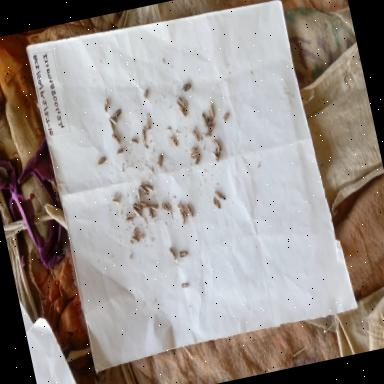pbw: (167, 130, 178, 150), (107, 114, 117, 136), (176, 94, 188, 110), (166, 246, 178, 262), (154, 152, 166, 168), (129, 230, 141, 246), (210, 195, 222, 211), (207, 102, 217, 121), (130, 205, 142, 220), (101, 96, 111, 114), (110, 132, 122, 147), (148, 199, 160, 214), (191, 127, 201, 145), (174, 100, 186, 115), (138, 182, 149, 198), (184, 202, 194, 219), (212, 135, 222, 152), (199, 110, 209, 127), (176, 246, 190, 258), (140, 86, 152, 100), (221, 109, 233, 123), (213, 188, 225, 202), (214, 150, 225, 165), (111, 107, 123, 120), (108, 195, 120, 208), (176, 106, 187, 120), (146, 201, 154, 220), (144, 180, 154, 195), (180, 82, 192, 94), (139, 128, 148, 144), (114, 145, 126, 157), (108, 115, 119, 128), (95, 155, 108, 166), (176, 198, 187, 211), (204, 116, 215, 128), (131, 201, 143, 212), (188, 142, 199, 154), (206, 122, 217, 134), (130, 225, 140, 238), (138, 198, 148, 211), (180, 280, 190, 292), (130, 134, 140, 146), (142, 121, 152, 133), (160, 201, 170, 213), (179, 209, 186, 225), (192, 155, 202, 166), (136, 186, 142, 204), (190, 150, 200, 160), (124, 214, 134, 224), (180, 207, 188, 219), (210, 149, 217, 159), (204, 132, 212, 139)
